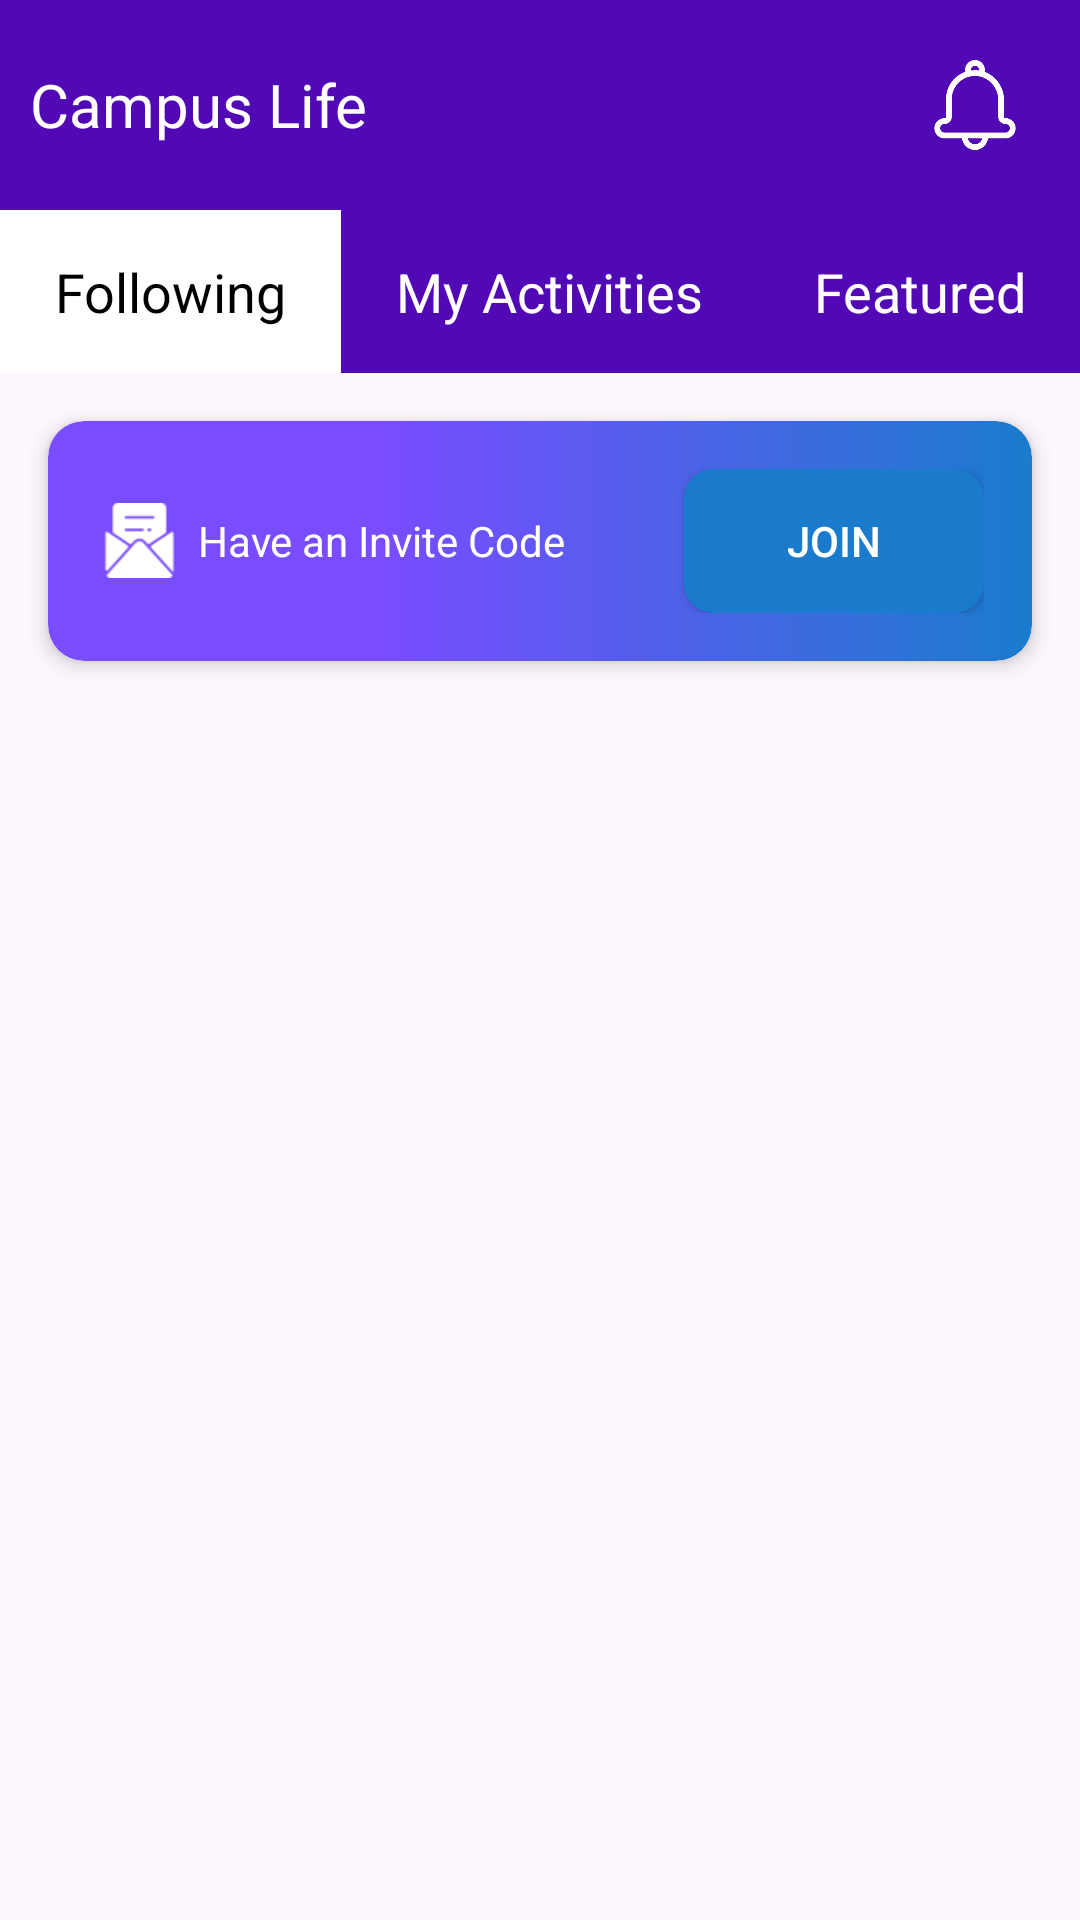

Screen size 1080w x 1920h. Icon name, then its box in pixels as (x1, y1, x2, y2):
notification: (934, 60, 1016, 150)
